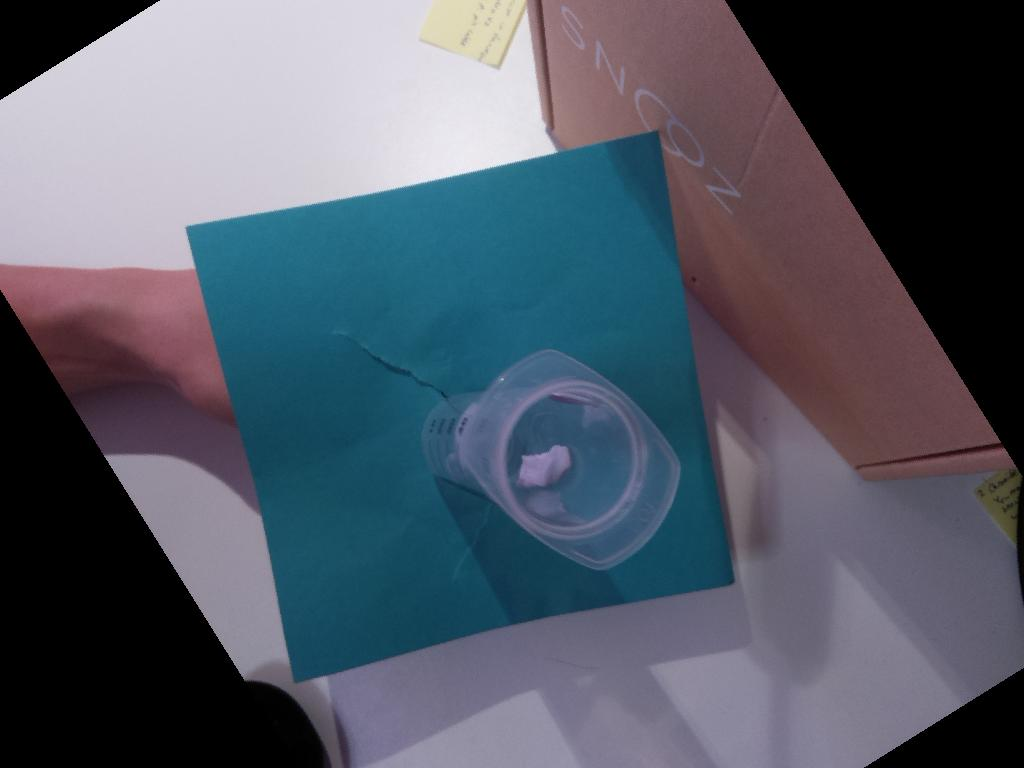dirty: (464, 348, 680, 573)
